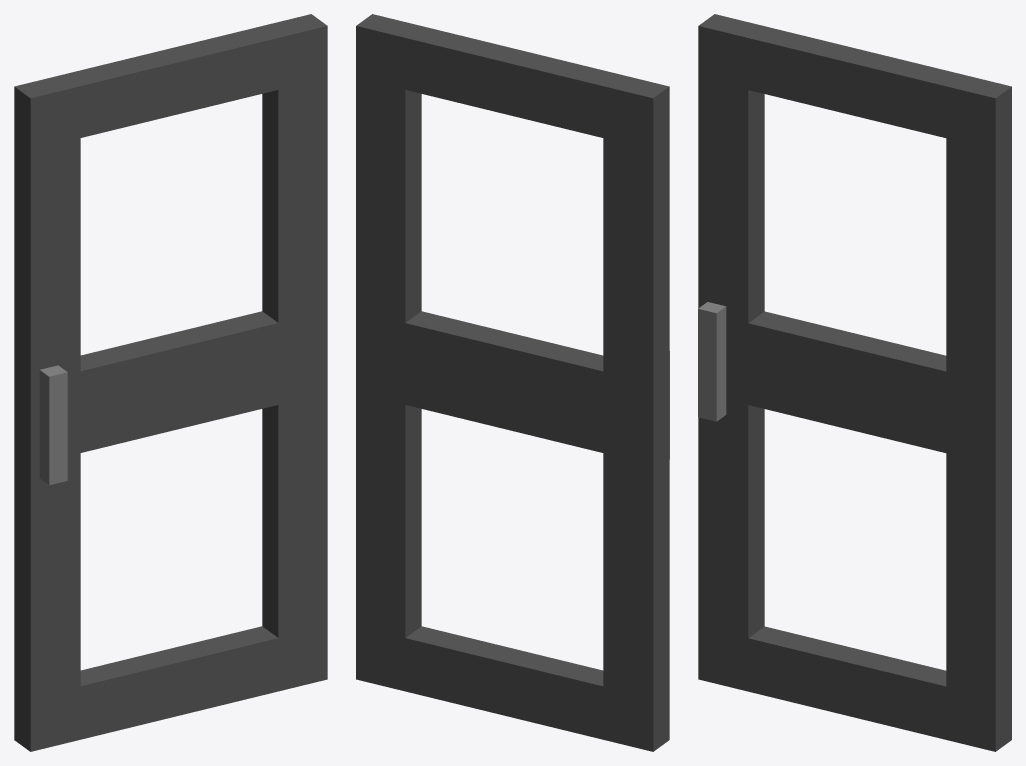
Rendered from Shelf_Door_B.fbx.
3 views of the same model, side by side, from view 1: azimuth 30°, elevation 25°; view 2: azimuth 150°, elevation 25°; view 3: azimuth 330°, elevation 25° (orthographic).
Parts seen in each view (by area): view 1: Shelf_Door_B; view 2: Shelf_Door_B; view 3: Shelf_Door_B.
Part boxes in pixels (x1,y1,x2,y2): Shelf_Door_B: (14, 14, 327, 751); Shelf_Door_B: (356, 14, 669, 751); Shelf_Door_B: (698, 14, 1011, 751).
Size of the model in its own units: 43.87 by 92.2 by 6.58.
